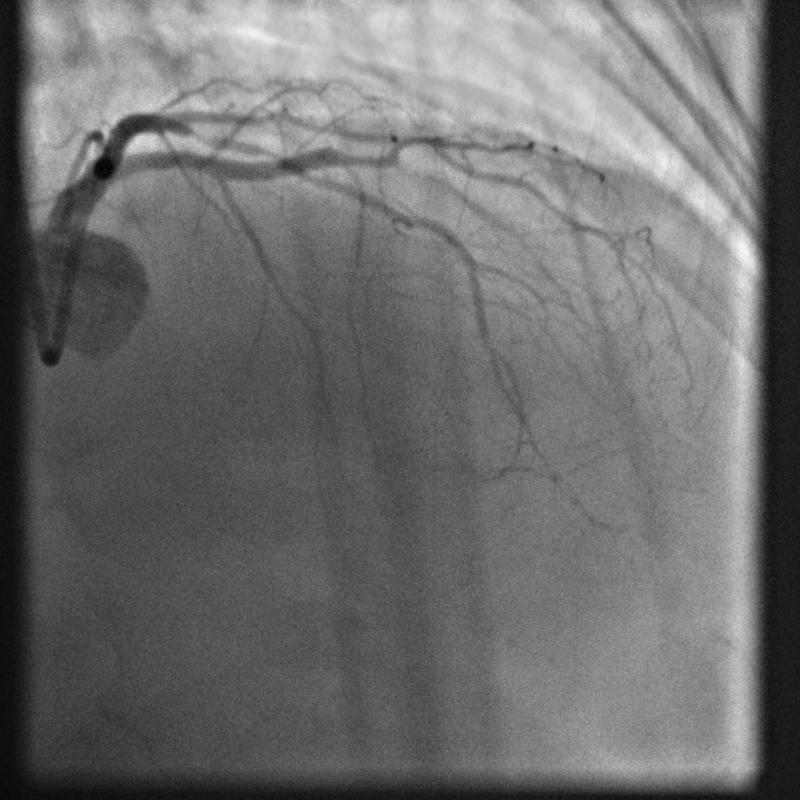Stenosis: (188, 128, 270, 155)
